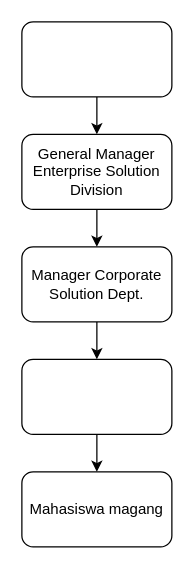
The diagram is 194 pixels wide and 569 high, and some of its shapes have lost their labels. Each missing label, with the centre of its shape:
"Direktur CITIS" belongs at pixel 96 59.
"Senior Solution Analyst (supervisor)" belongs at pixel 96 396.
